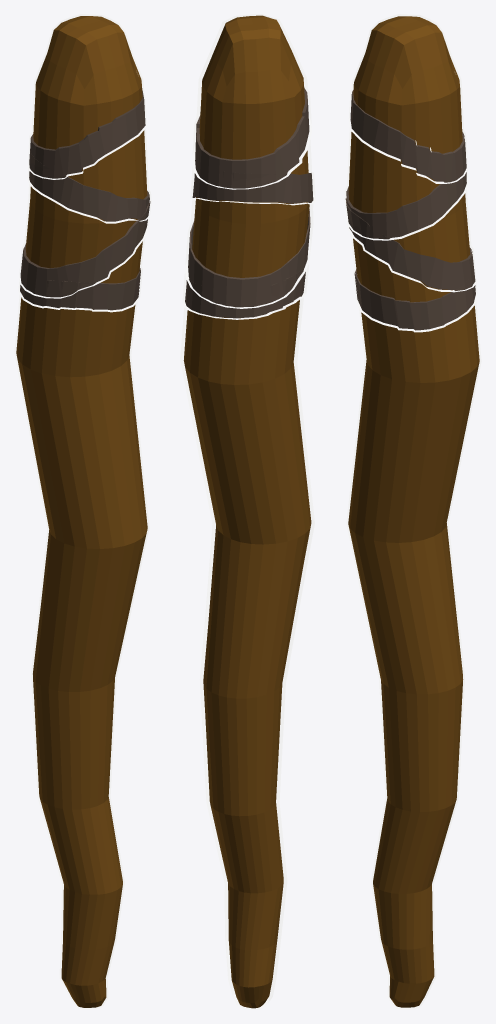
File: Antorcha2.glb
3 views of the same model, side by side, from view 1: azimuth 90°, elevation 25°; view 2: azimuth 150°, elevation 25°; view 3: azimuth 270°, elevation 25° (orthographic).
Parts seen in each view (by area): view 1: Torch; view 2: Torch; view 3: Torch.
Part boxes in pixels (box(x1,y1,x2,y2)): Torch: box(14, 14, 151, 1009); Torch: box(180, 14, 315, 1009); Torch: box(344, 14, 481, 1009).
Bounding box in the file's own units: 0.1249 × 1.05 × 0.1336.
